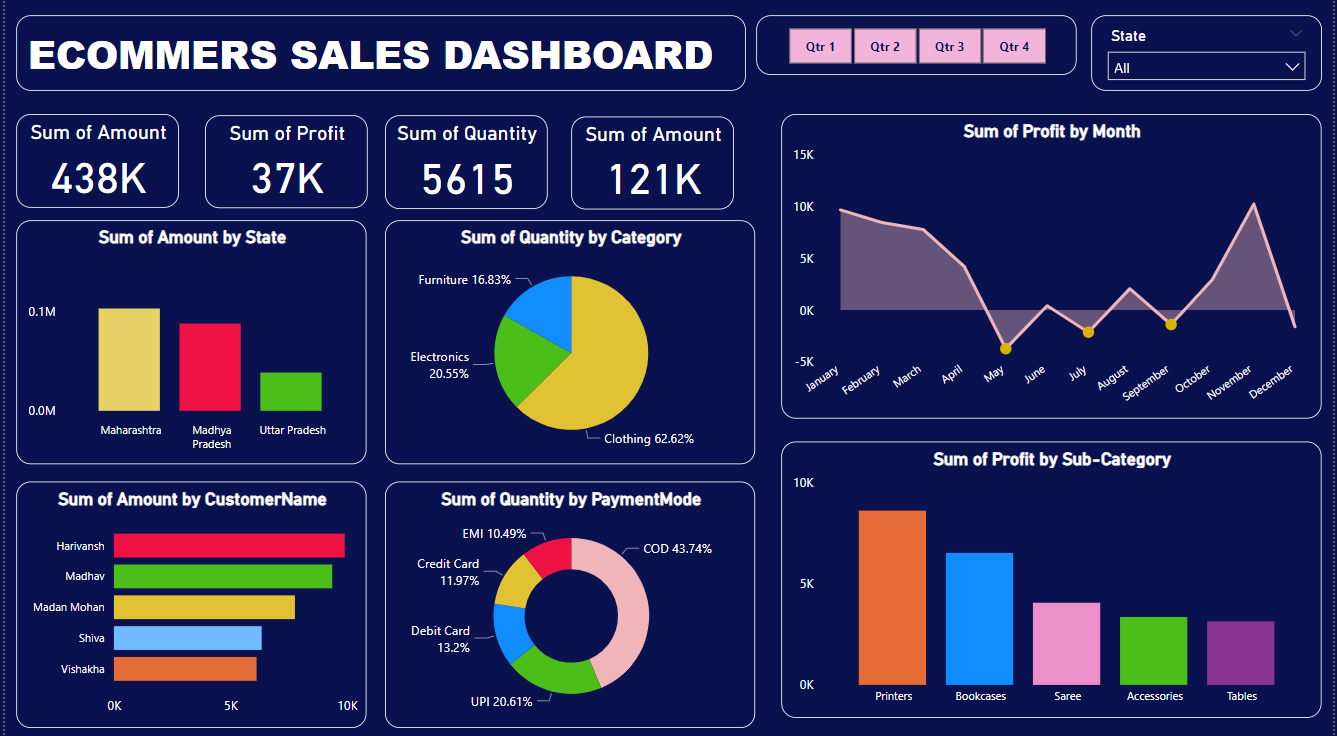

What the dashboard file says about the page in this screenshot:
{"tool":"powerbi","page":{"name":"Page 1","canvas":[1280,720],"ordinal":0},"visuals":[{"type":"areaChart","fields":{"Category":["Orders.Order Date.Variation.Date Hierarchy.Month"],"Y":["Details.Profit"]},"box":[748.5,115.4,520.5,293.9],"z":0},{"type":"donutChart","fields":{"Category":["Details.PaymentMode"],"Y":["Details.Quantity"]},"box":[366.7,469.7,357.1,237.6],"z":1000},{"type":"pieChart","fields":{"Category":["Details.Category"],"Y":["Details.Quantity"]},"box":[366.7,218.4,357.1,234.8],"z":2000},{"type":"barChart","fields":{"Category":["Orders.CustomerName"],"Y":["Details.Amount"]},"box":[11,469.7,337.9,237.6],"z":3000},{"type":"columnChart","fields":{"Y":["Details.Amount"],"Category":["Orders.State"]},"box":[11,218.4,337.9,234.8],"z":4000},{"type":"columnChart","fields":{"Y":["Details.Profit"],"Category":["Details.Sub-Category"]},"box":[748.5,431.2,520.5,266.4],"z":5000},{"type":"card","title":"Sum of Amount","fields":{"Values":["Details.Amount"]},"box":[11,115.4,156.6,90.6],"z":6000},{"type":"card","title":"Sum of Profit","fields":{"Values":["Details.Profit"]},"box":[192.3,116.7,156.6,89.3],"z":7000},{"type":"card","title":"Sum of Amount","fields":{"Values":["Details.Average Order Value"]},"box":[545.2,118.1,156.6,89.3],"z":8000},{"type":"card","title":"Sum of Quantity","fields":{"Values":["Details.Quantity"]},"box":[366.7,116.7,156.6,90.6],"z":9000},{"type":"slicer","fields":{"Values":["Orders.Order Date.Variation.Date Hierarchy.Quarter"]},"box":[723.8,20.6,309,57.7],"z":10000},{"type":"slicer","fields":{"Values":["Orders.State"]},"box":[1046.5,20.6,222.5,72.8],"z":10001},{"type":"textbox","box":[11,20.6,703.2,72.8],"z":10002}]}

Visuals, with their boxes in screenshot pixels (x1, y1, x2, y2), scaled from the page's 1280x720 canvas onto the 1337x736 screenshot:
areaChart - Orders.Order Date.Variation.Date Hierarchy.Month x Details.Profit: <bbox>782, 118, 1326, 418</bbox>
donutChart - Details.PaymentMode x Details.Quantity: <bbox>383, 480, 756, 723</bbox>
pieChart - Details.Category x Details.Quantity: <bbox>383, 223, 756, 463</bbox>
barChart - Orders.CustomerName x Details.Amount: <bbox>11, 480, 364, 723</bbox>
columnChart - Details.Amount x Orders.State: <bbox>11, 223, 364, 463</bbox>
columnChart - Details.Profit x Details.Sub-Category: <bbox>782, 441, 1326, 713</bbox>
"Sum of Amount" card: <bbox>11, 118, 175, 211</bbox>
"Sum of Profit" card: <bbox>201, 119, 364, 211</bbox>
"Sum of Amount" card: <bbox>569, 121, 733, 212</bbox>
"Sum of Quantity" card: <bbox>383, 119, 547, 212</bbox>
slicer - Orders.Order Date.Variation.Date Hierarchy.Quarter: <bbox>756, 21, 1079, 80</bbox>
slicer - Orders.State: <bbox>1093, 21, 1326, 95</bbox>
textbox: <bbox>11, 21, 746, 95</bbox>
